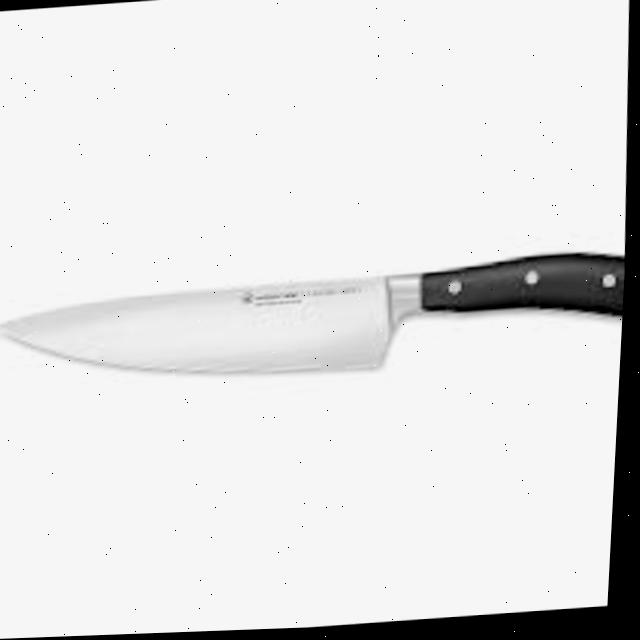knife: (0, 251, 629, 397)
